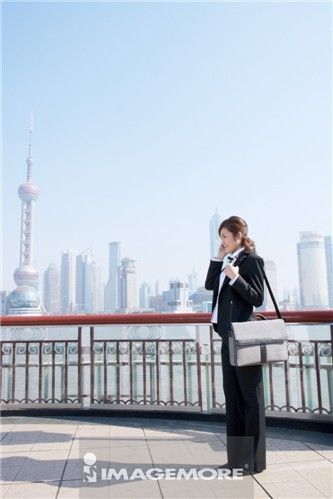talk: (216, 230, 233, 257)
